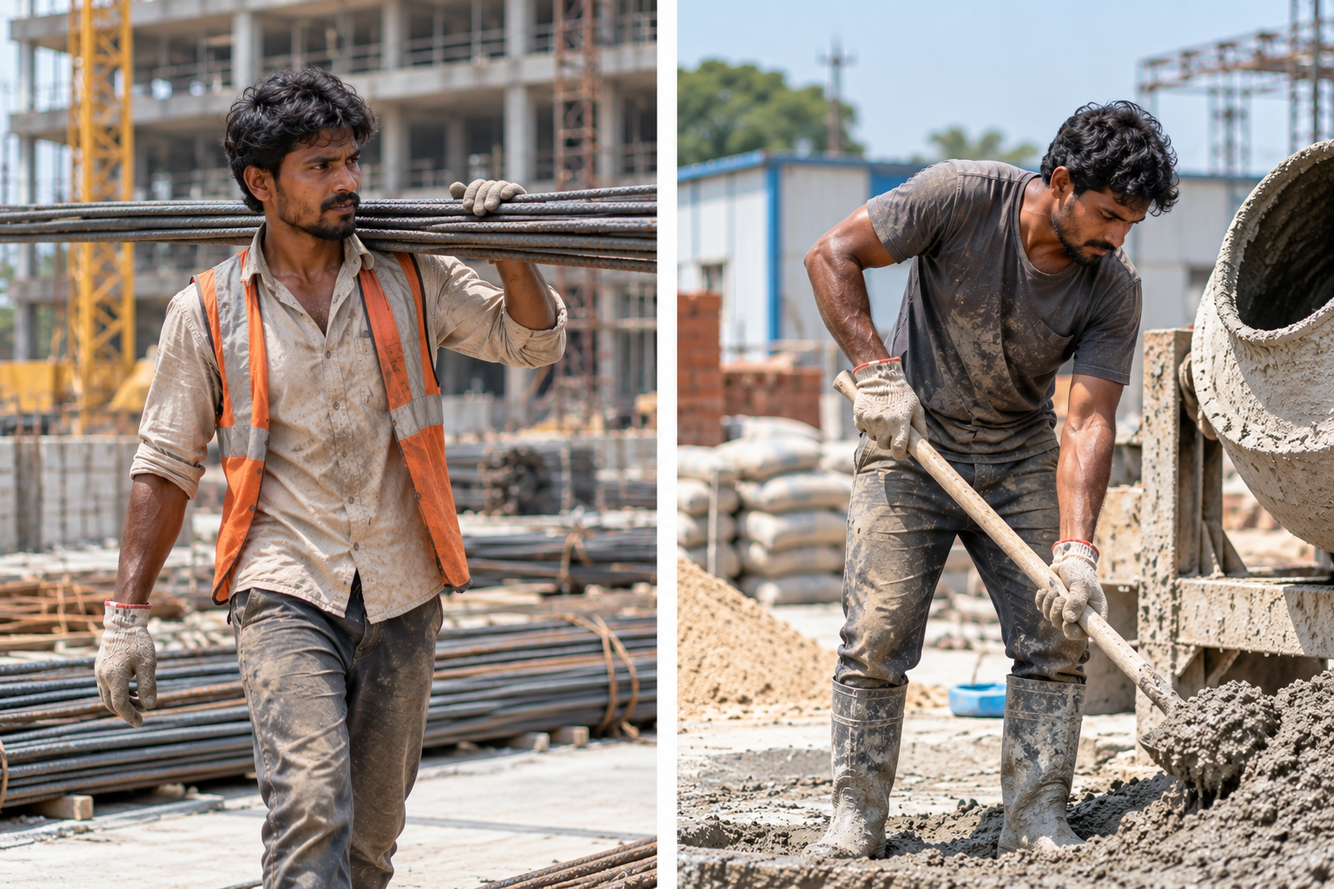no_hardhat: (1039, 94, 1200, 205), (212, 69, 383, 166)
no_safety_vest: (842, 196, 1126, 479)
person: (91, 56, 562, 887), (776, 90, 1234, 871)
safety_vest: (181, 246, 481, 613)
